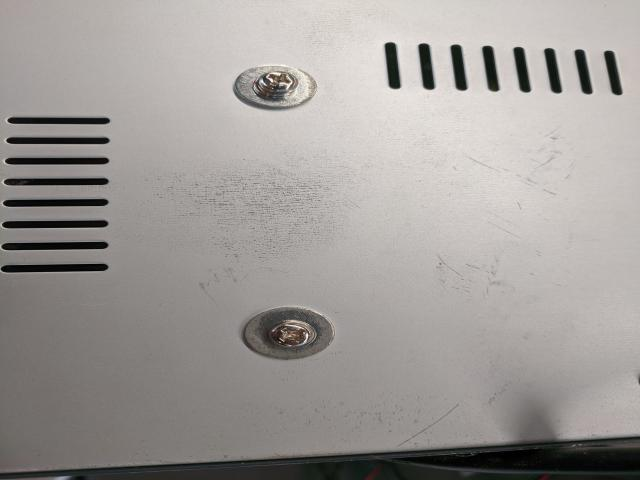CRS: (270, 323, 311, 346), (258, 72, 300, 94)
